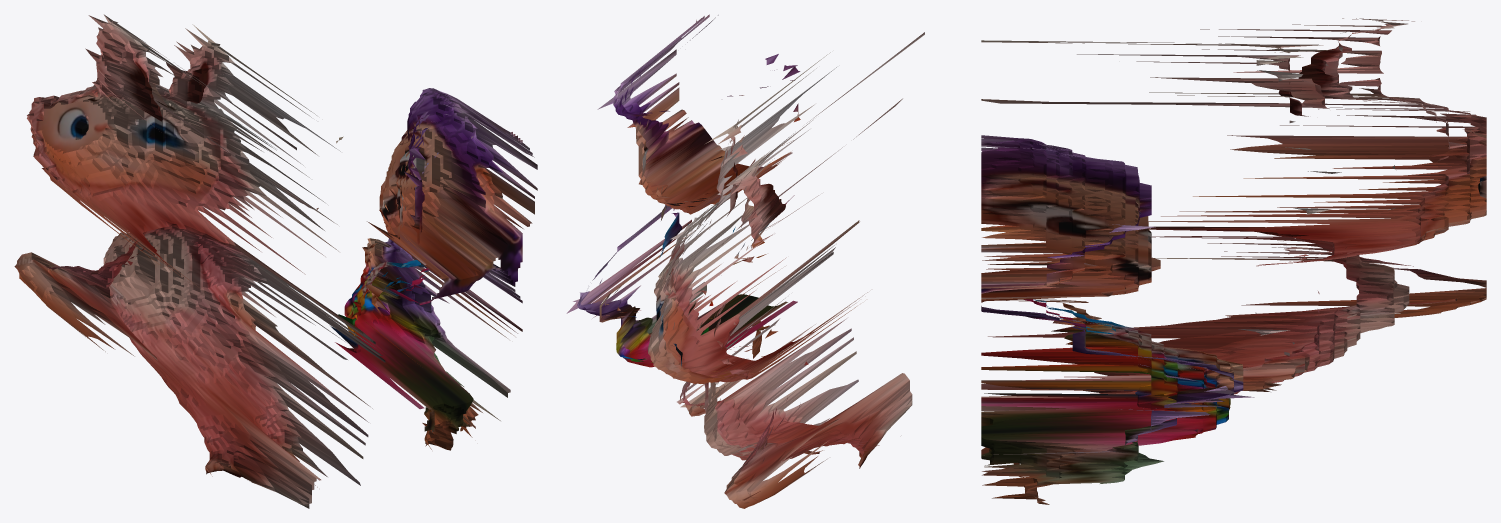
The model's file is frame_00065.glb.
3 views of the same model, side by side, from view 1: azimuth 30°, elevation 25°; view 2: azimuth 150°, elevation 25°; view 3: azimuth 270°, elevation 25° (orthographic). The views are drawn at different scales.
Visible parts, largest first — view 1: geometry_0; view 2: geometry_0; view 3: geometry_0.
Part boxes in pixels (x1,y1,x2,y2): geometry_0: (14, 14, 537, 508); geometry_0: (566, 14, 924, 508); geometry_0: (981, 18, 1486, 504).
Bounding box in the file's own units: 0.1189 × 0.1435 × 0.16.
1 material, 1 textured.
